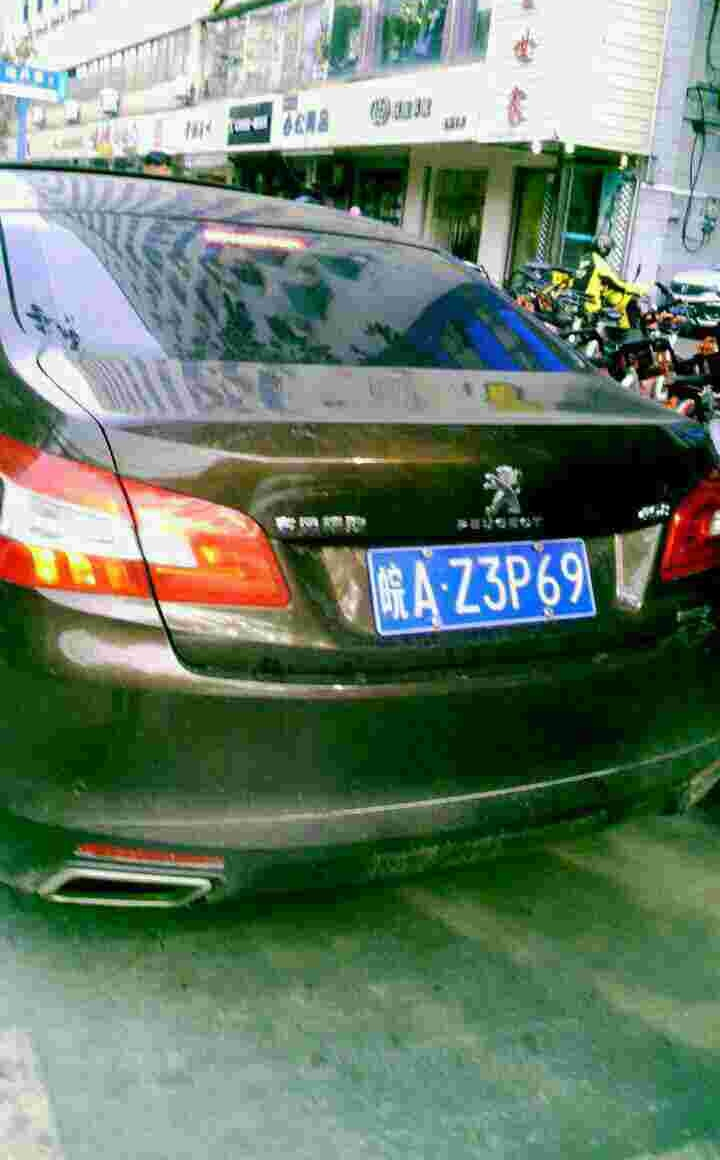license_plate: (374, 543, 593, 645)
